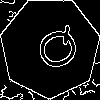Q: (25, 22, 84, 78)
